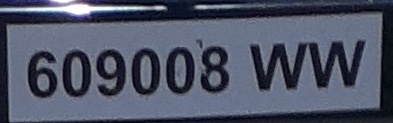0: (162, 44, 197, 98), (60, 45, 92, 101), (130, 43, 163, 97)
6: (24, 50, 59, 100)
8: (200, 41, 231, 95)
9: (93, 44, 128, 98)
w: (309, 37, 370, 93), (247, 41, 308, 94)
